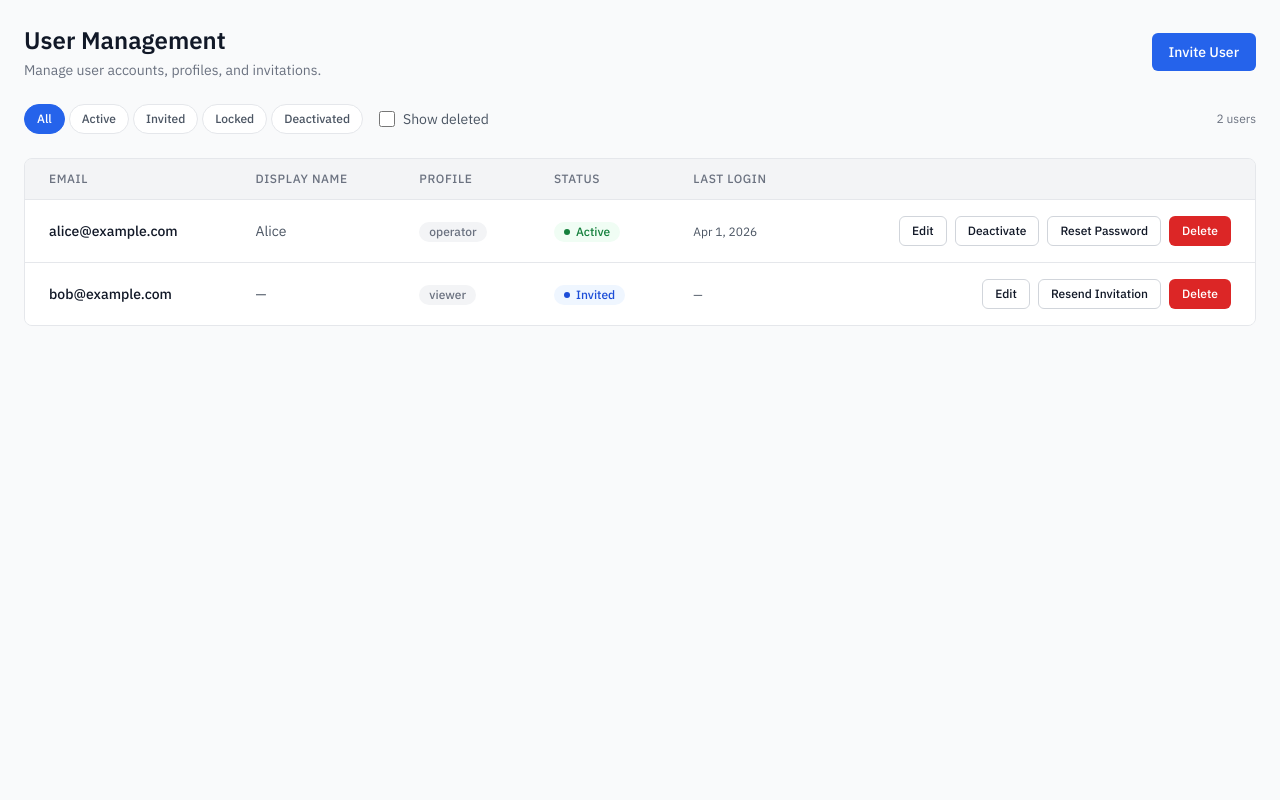
Test: AdminUsersPage › shows invite token reveal modal on successful invite
The image size is (1280, 800).
// Open invite modal
Click the button "Invite User" at coordinates (1204, 52), box [1152,33,1256,71]
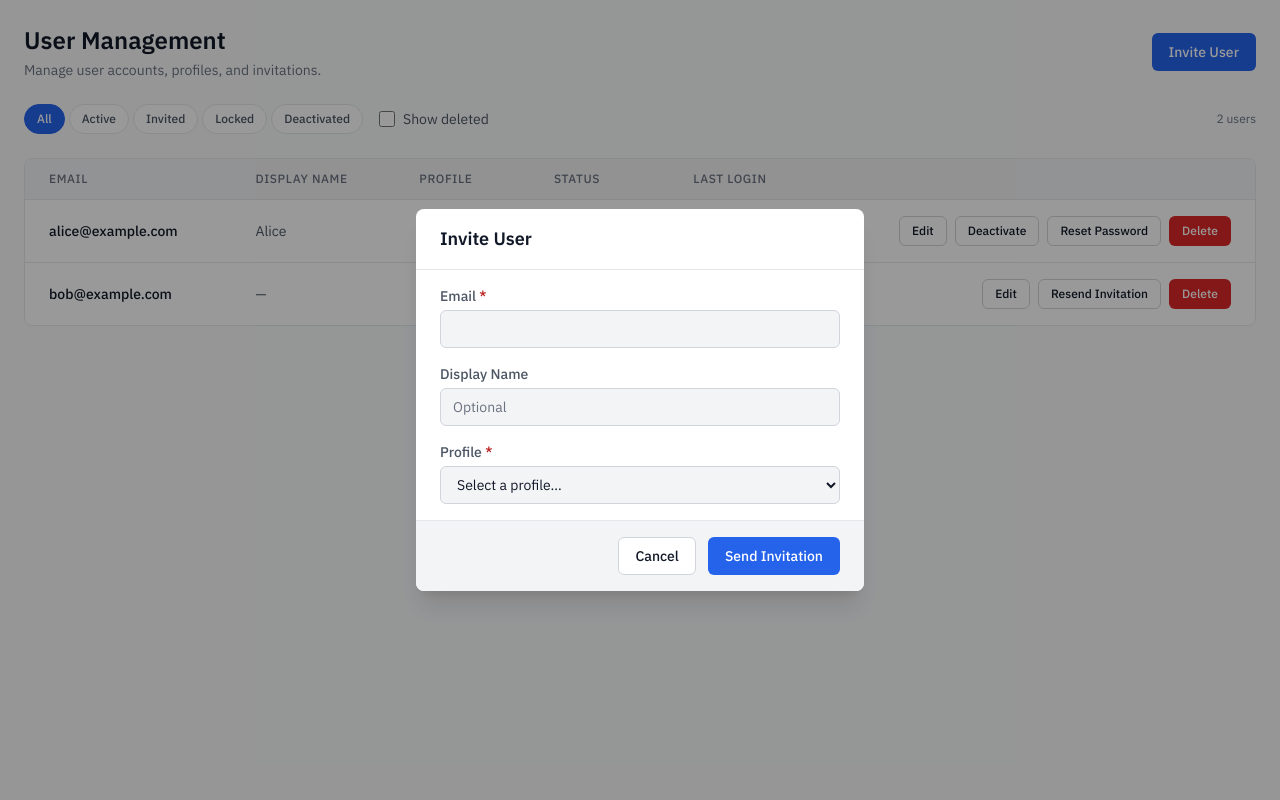
// Fill in form
Type "newuser@example.com" into the field labelled "Email *" at coordinates (640, 329), box [440,310,840,348]
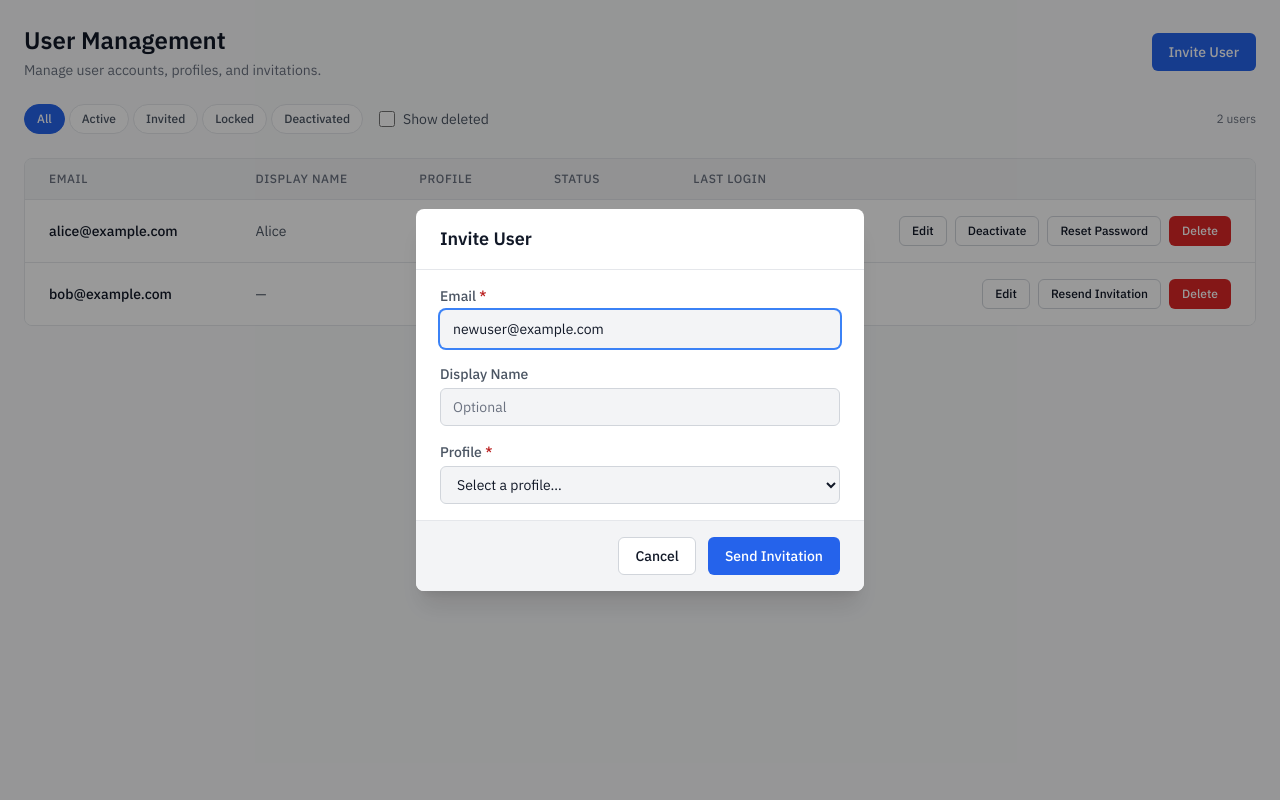
Select "operator — Operator" in the dropdown labelled "Profile *" at coordinates (640, 485), box [440,466,840,504]
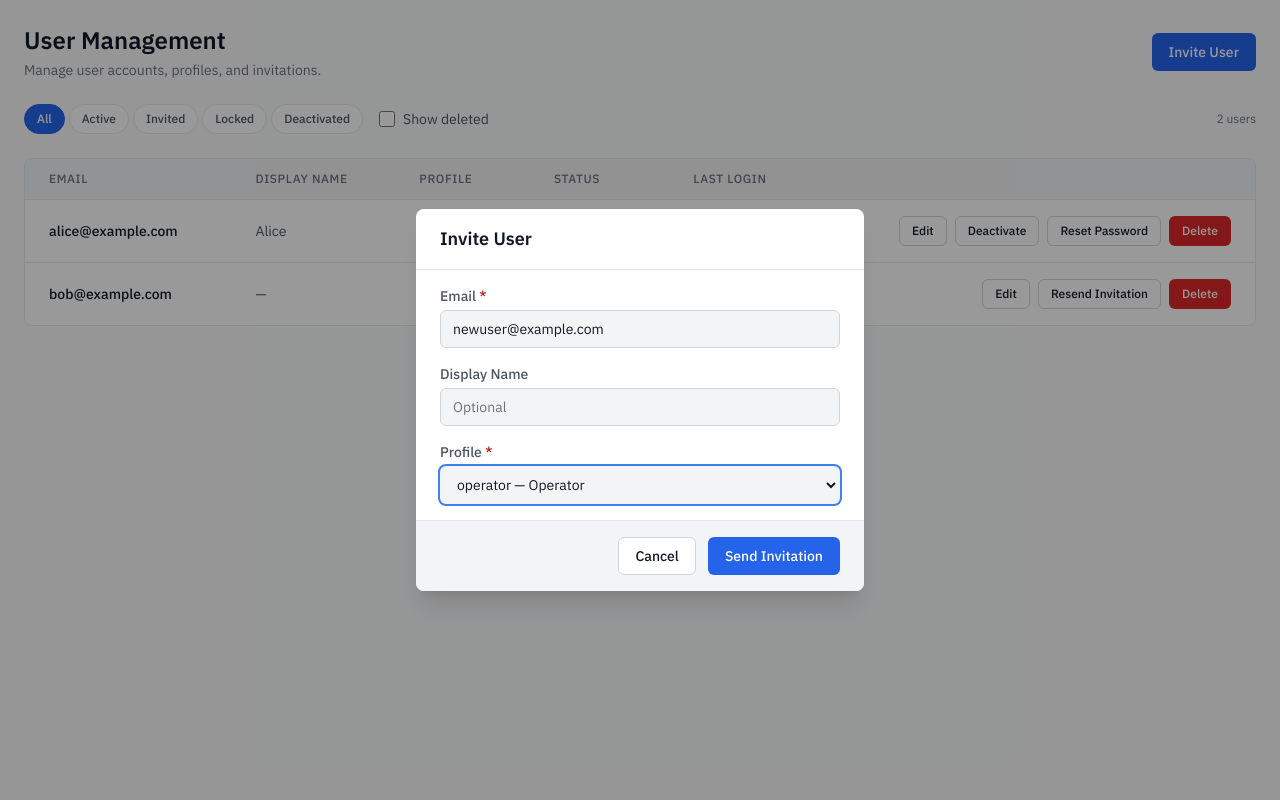
Click the button "Send Invitation" at coordinates (774, 556), box [708,537,840,575]
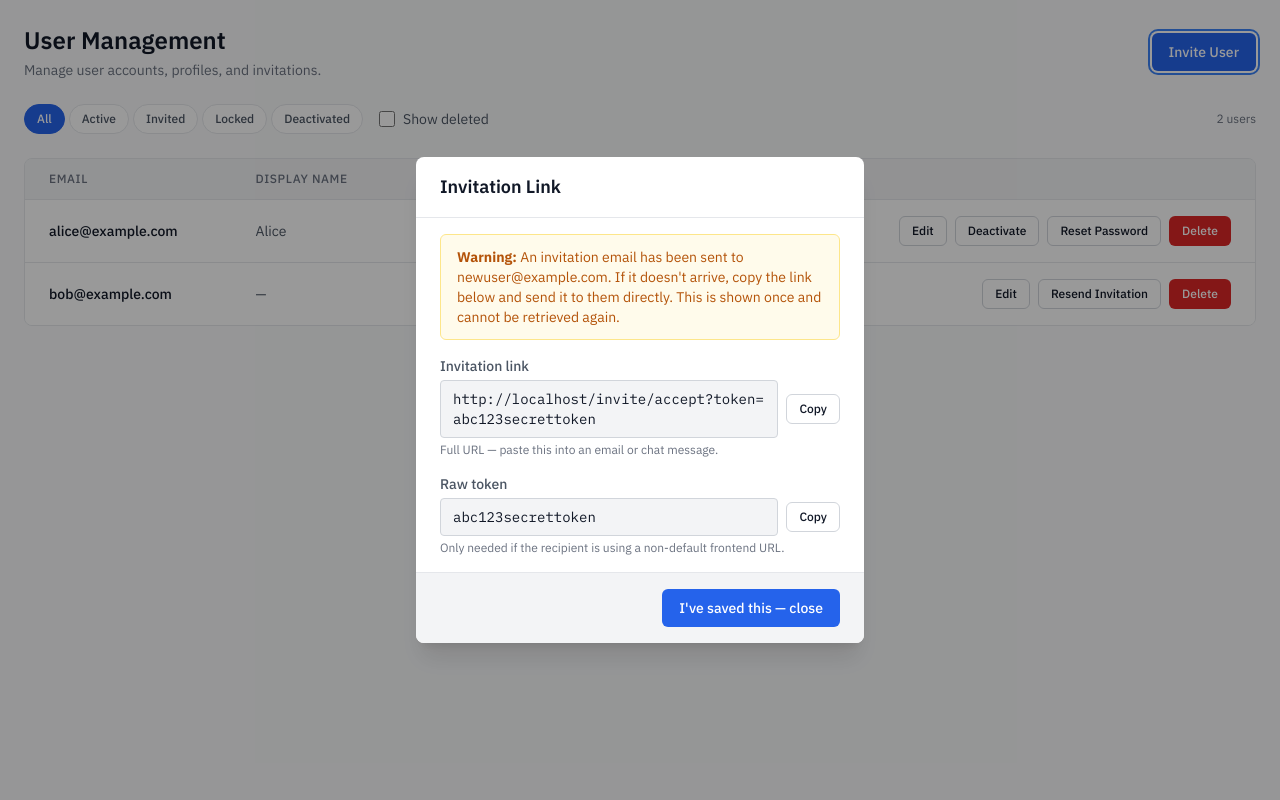
Check: the heading "Invitation Link" is shown, box [440,175,561,198]
Check: the text "http://localhost/invite/accept?token=abc123secrettoken" is shown, box [440,380,778,438]
Check: the text "abc123secrettoken" is shown, box [440,498,778,536]
